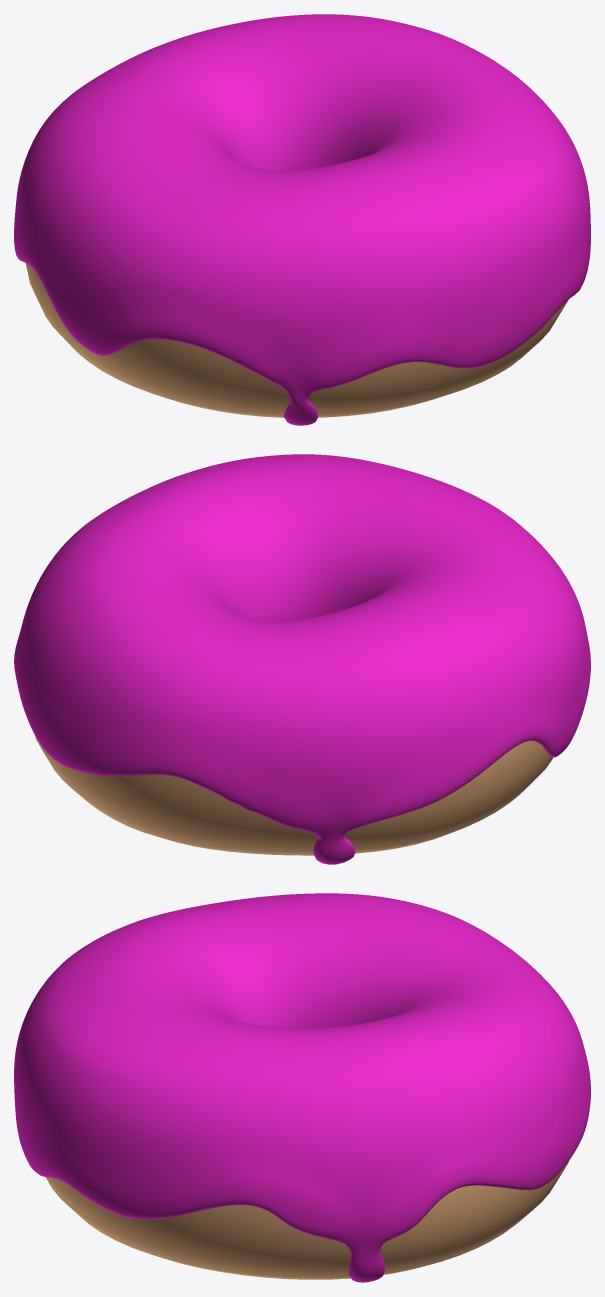
Rendered from donut4.fbx.
3 renders of one model, top to bottom at view 1: azimuth 30°, elevation 25°; view 2: azimuth 150°, elevation 25°; view 3: azimuth 270°, elevation 25°, orthographic.
Parts seen in each view (by area): view 1: Icing, Donut; view 2: Icing, Donut; view 3: Icing, Donut.
Part boxes in pixels (<box>): Icing: <box>14,14,590,425</box>; Donut: <box>25,263,568,417</box>; Icing: <box>14,454,590,864</box>; Donut: <box>35,736,553,855</box>; Icing: <box>14,893,590,1282</box>; Donut: <box>45,1161,568,1279</box>.
Size of the model in its own units: 107 by 48.08 by 109.
